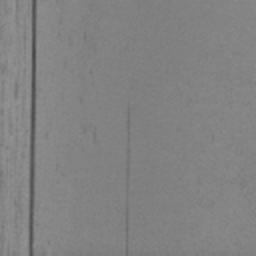Scratches: (28, 0, 38, 256), (124, 99, 132, 256)
